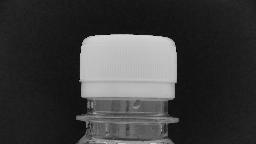Loose Cap: (71, 75, 183, 126)
